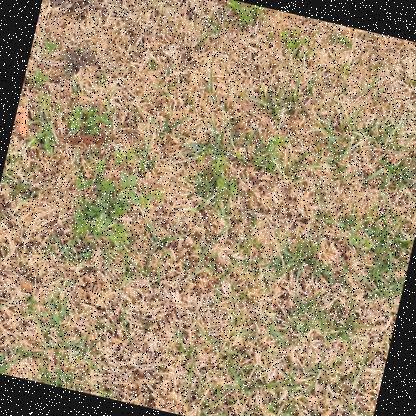Weeds: (58, 138, 177, 269), (202, 118, 296, 214), (30, 88, 116, 167), (212, 0, 292, 40), (27, 68, 49, 96), (42, 36, 63, 55)
